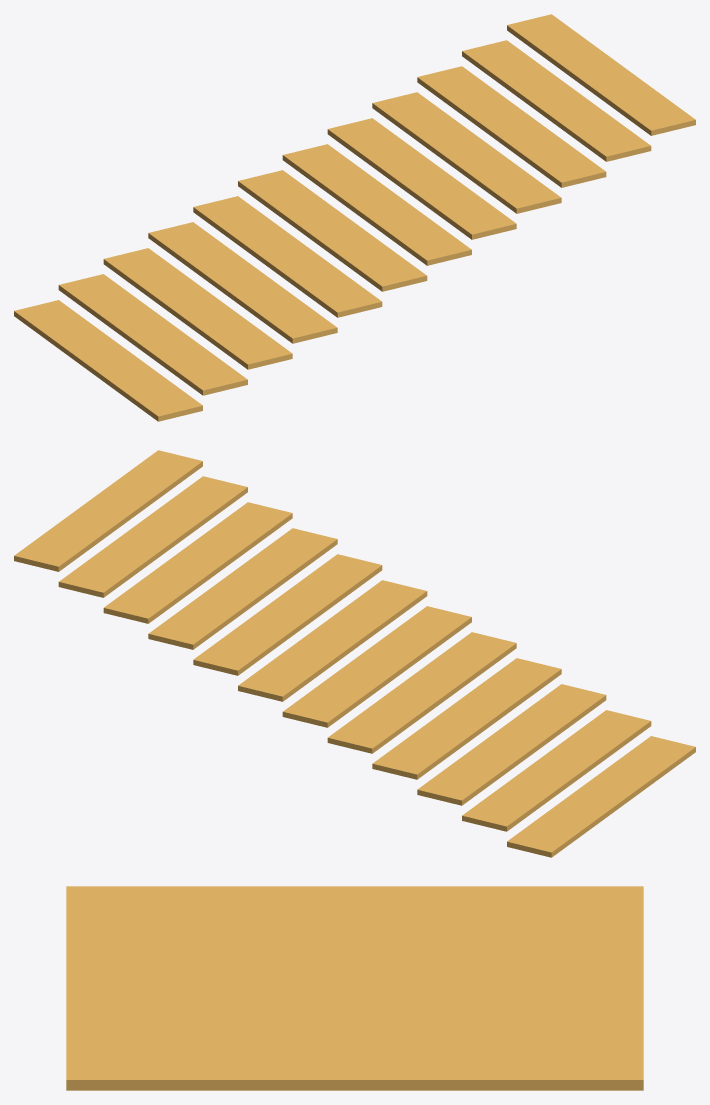
Rendered from OU_AR_TechAnim_01_D.fbx.
3 renders of one model, top to bottom at view 1: azimuth 30°, elevation 25°; view 2: azimuth 150°, elevation 25°; view 3: azimuth 270°, elevation 25°, orthographic. The views are drawn at different scales.
Visible parts, largest first — view 1: OU_AR_TechAnim_01_D, OU_AR_TechAnim_01_D.001; view 2: OU_AR_TechAnim_01_D, OU_AR_TechAnim_01_D.001; view 3: OU_AR_TechAnim_01_D.001, OU_AR_TechAnim_01_D.
Part boxes in pixels (x1=…): OU_AR_TechAnim_01_D: x1=14, y1=40, x2=651, y2=421; OU_AR_TechAnim_01_D.001: x1=58, y1=14, x2=695, y2=395; OU_AR_TechAnim_01_D: x1=58, y1=476, x2=695, y2=857; OU_AR_TechAnim_01_D.001: x1=14, y1=450, x2=651, y2=831; OU_AR_TechAnim_01_D.001: x1=66, y1=900, x2=643, y2=1090; OU_AR_TechAnim_01_D: x1=66, y1=886, x2=643, y2=1036.
Size of the model in its own units: 636 by 193 by 296.
